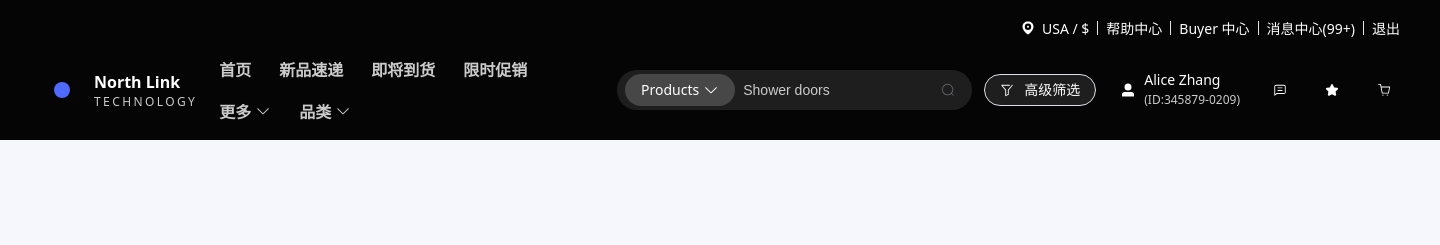
Test: SiteHeader › renders navigation, utility links, and new pills
Check: the text "USA / $" is shown, box 1042,18 -> 1089,38
Check: the text "帮助中心" is shown, box 1106,18 -> 1162,38
Click the button "Products".
click(680, 90)  # box 625,74 -> 735,106
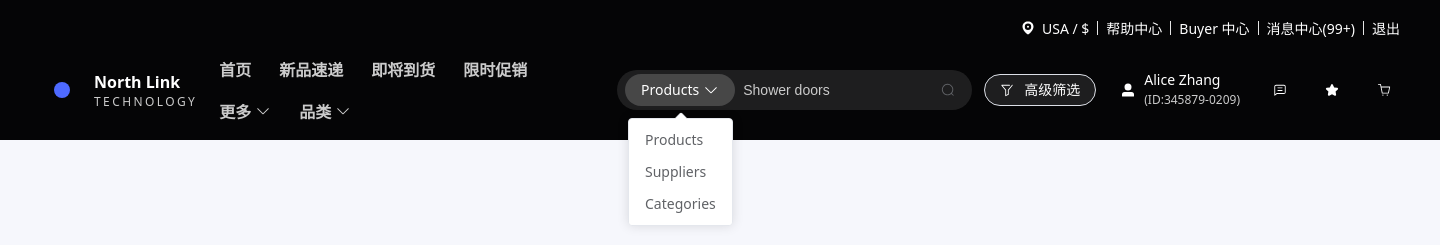
Click the menu item "Suppliers".
click(676, 172)  # box 645,162 -> 706,181
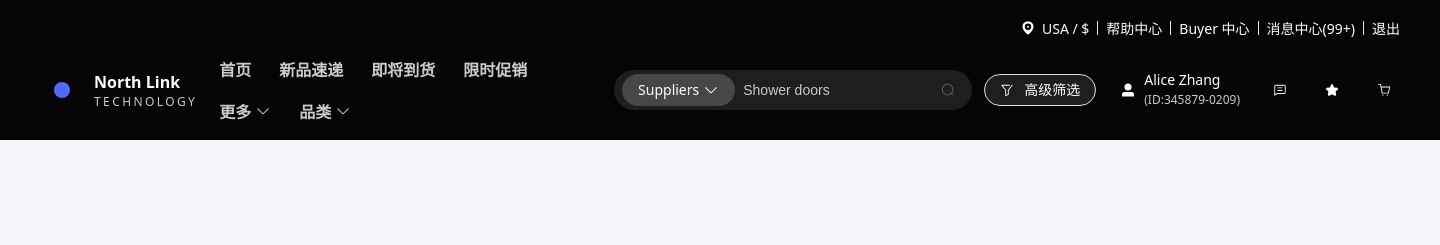
Check: the button "Suppliers" is shown, box 622,74 -> 735,106
